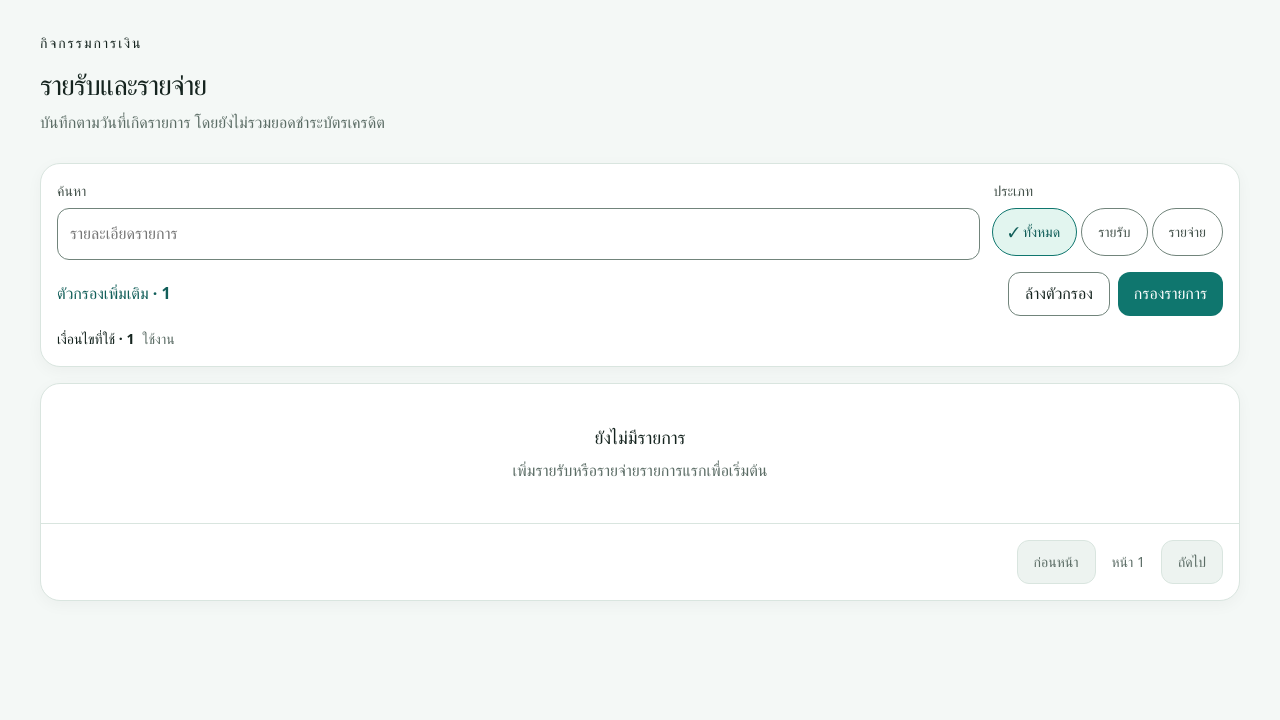
Scenario: finance pages › applies combined transaction filters and clears them
The image size is (1280, 720).
Check: the heading "ยังไม่มีรายการ" is shown, box [594,425,686,449]
Check: the radio button labelled "ทั้งหมด" is checked, box [992,208,1077,256]
Type "กลางวัน" into the search field labelled "ค้นหา" at coordinates (518, 234), box [57,208,980,260]
Click the radio button labelled "รายจ่าย" at coordinates (1187, 232), box [1152,208,1223,256]
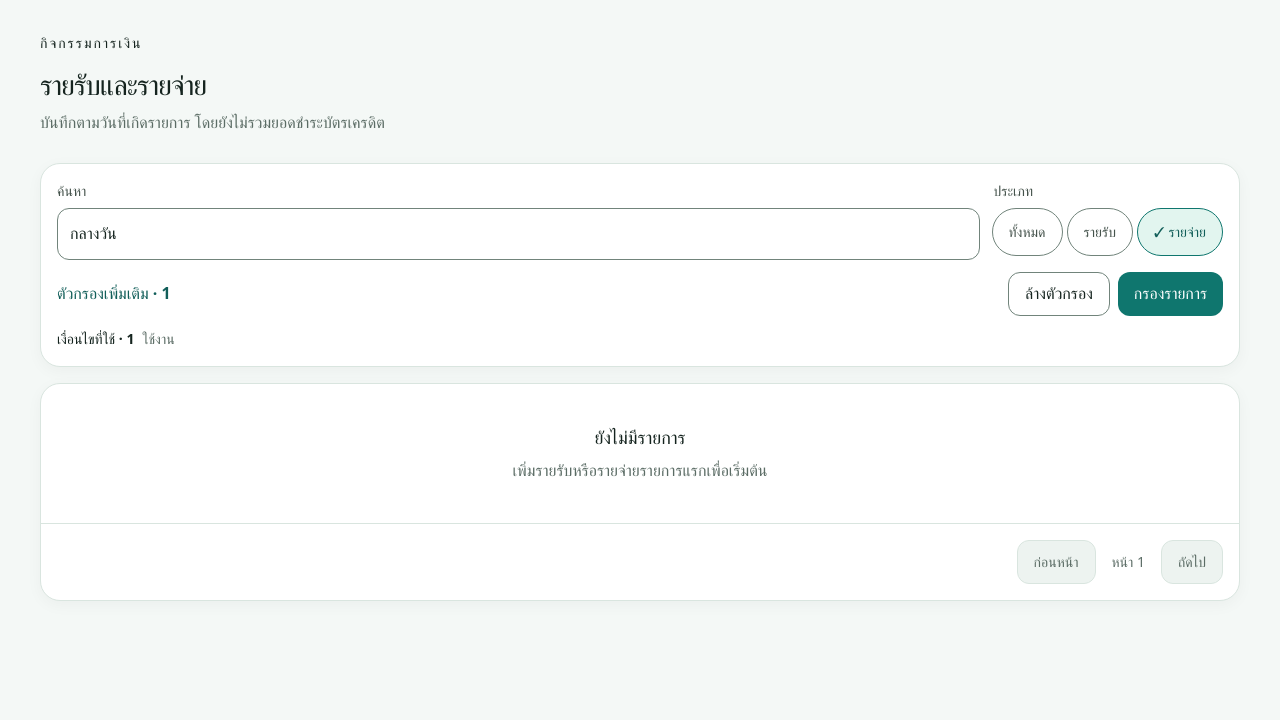
Click the heading "ตัวกรองเพิ่มเติม · 1" at coordinates (114, 293), box [57,282,171,304]
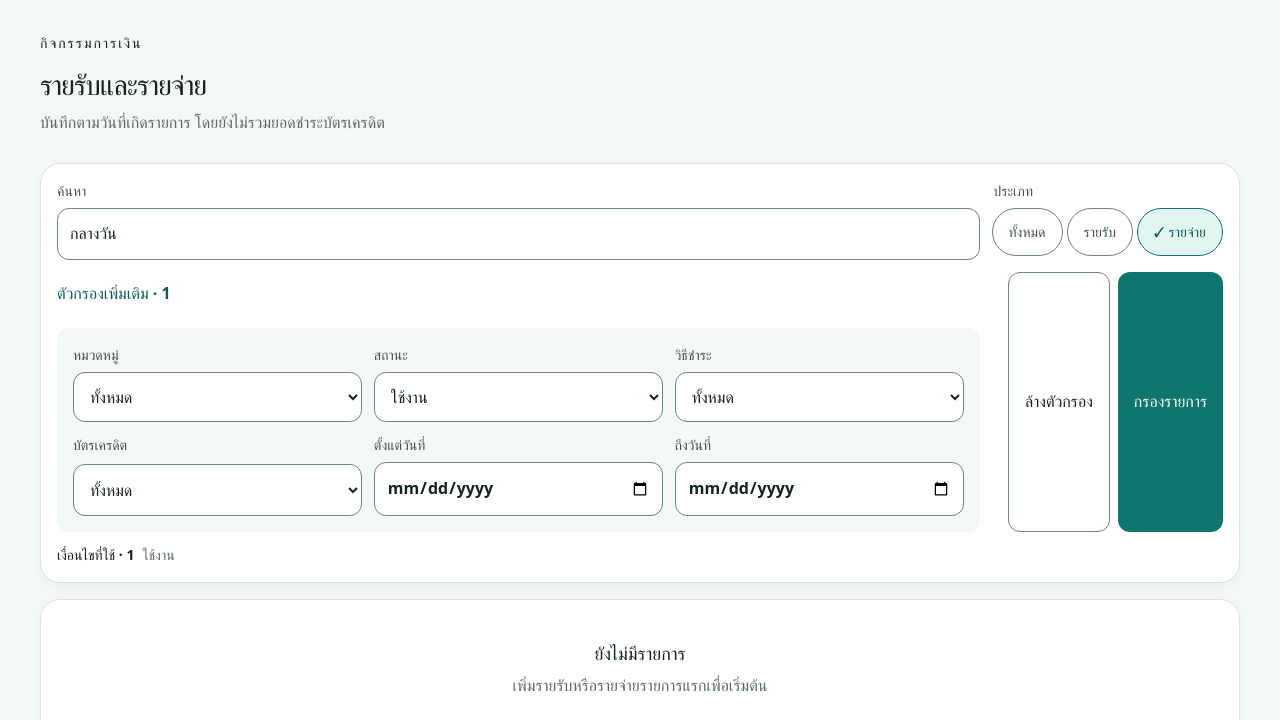
Select "อาหารสมมติ" in the dropdown labelled "หมวดหมู่" at coordinates (217, 397), box [73,372,362,422]
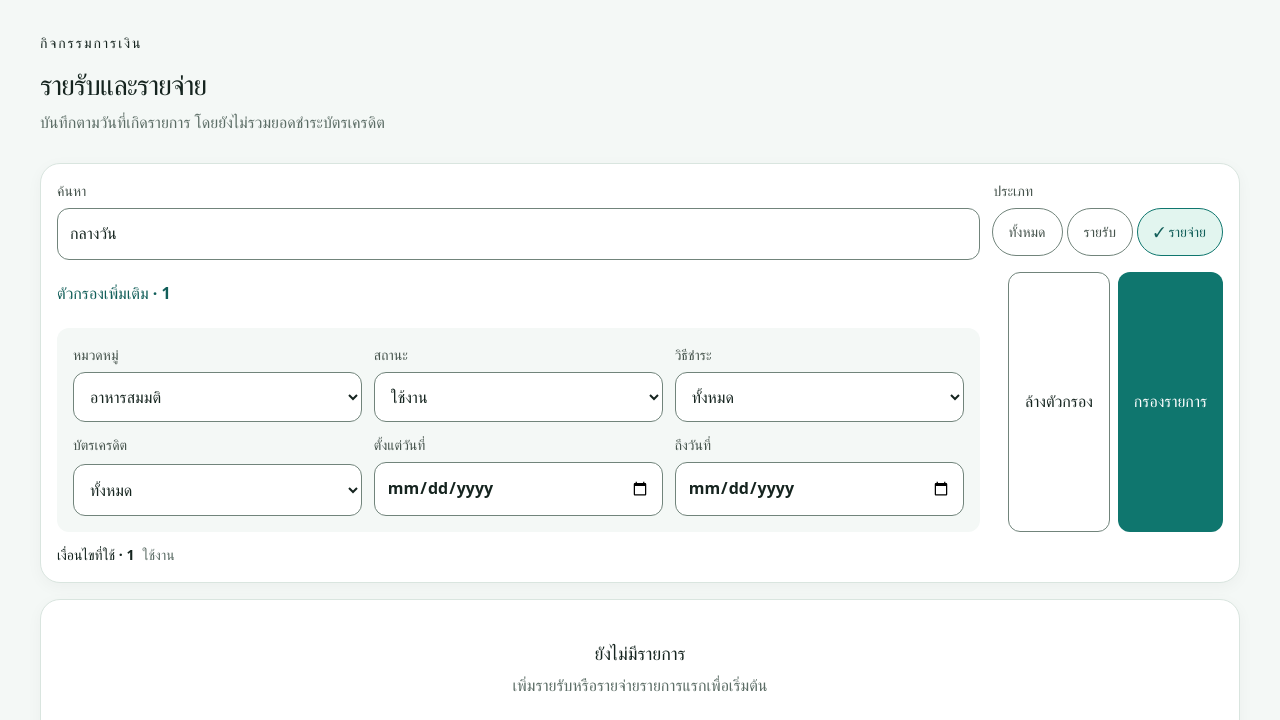
Select "เงินสด" in the dropdown labelled "วิธีชำระ" at coordinates (819, 397), box [675,372,964,422]
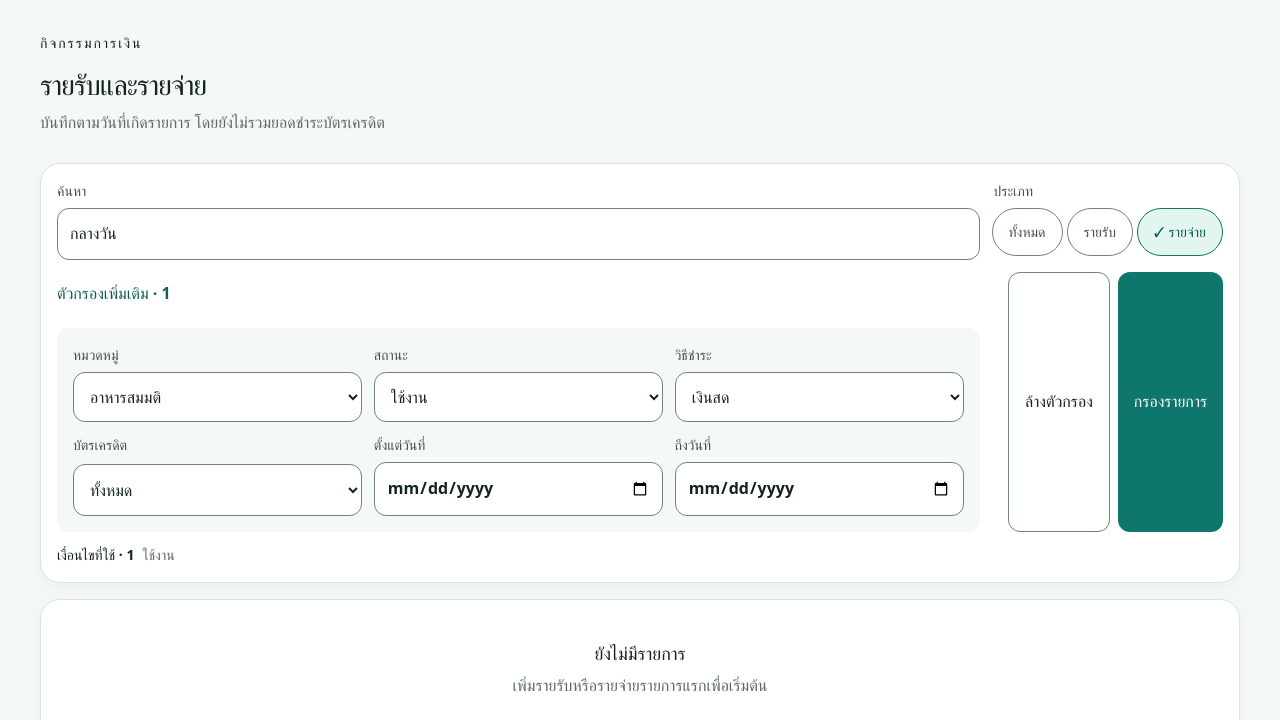
Click the button "กรองรายการ" at coordinates (1170, 402), box [1118,272,1223,532]
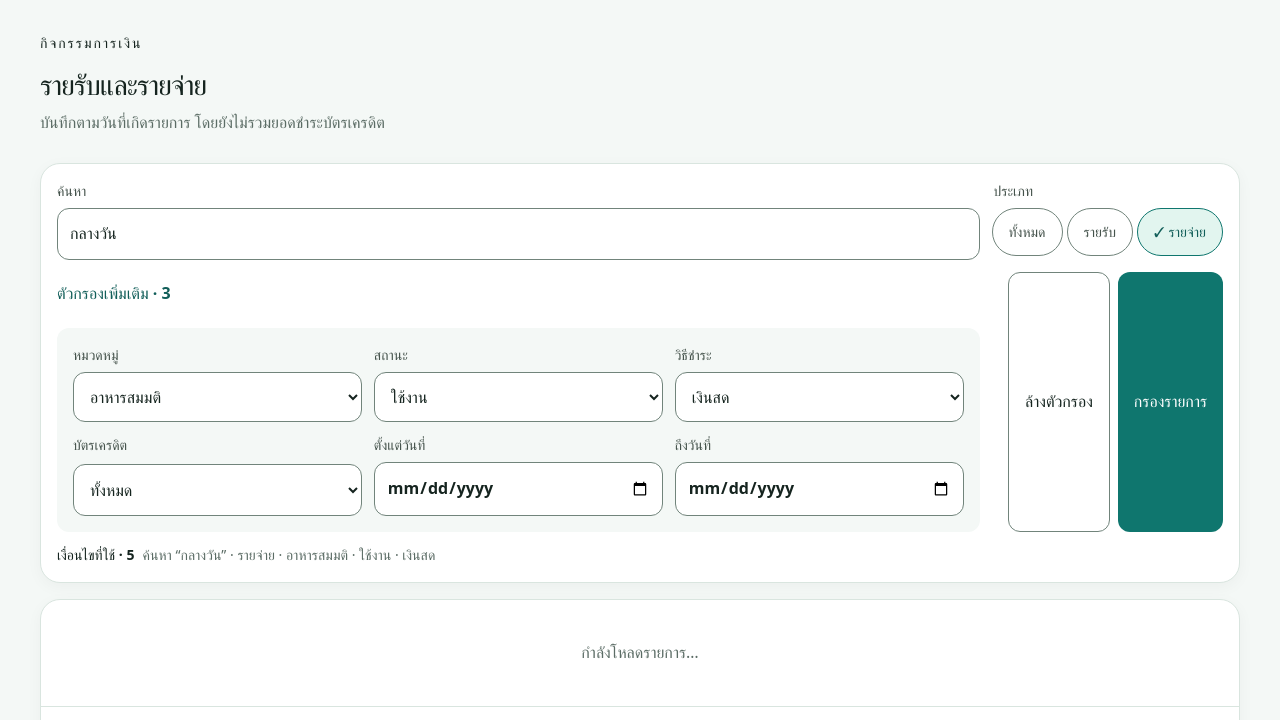
Check: the text "เงื่อนไขที่ใช้ · 5" is shown, box [57,544,134,566]
Check: the text "ค้นหา “กลางวัน” · รายจ่าย · อาหารสมมติ · ใช้งาน · เงินสด" is shown, box [142,544,435,566]
Click the button "ล้างตัวกรอง" at coordinates (1059, 402), box [1008,272,1110,532]
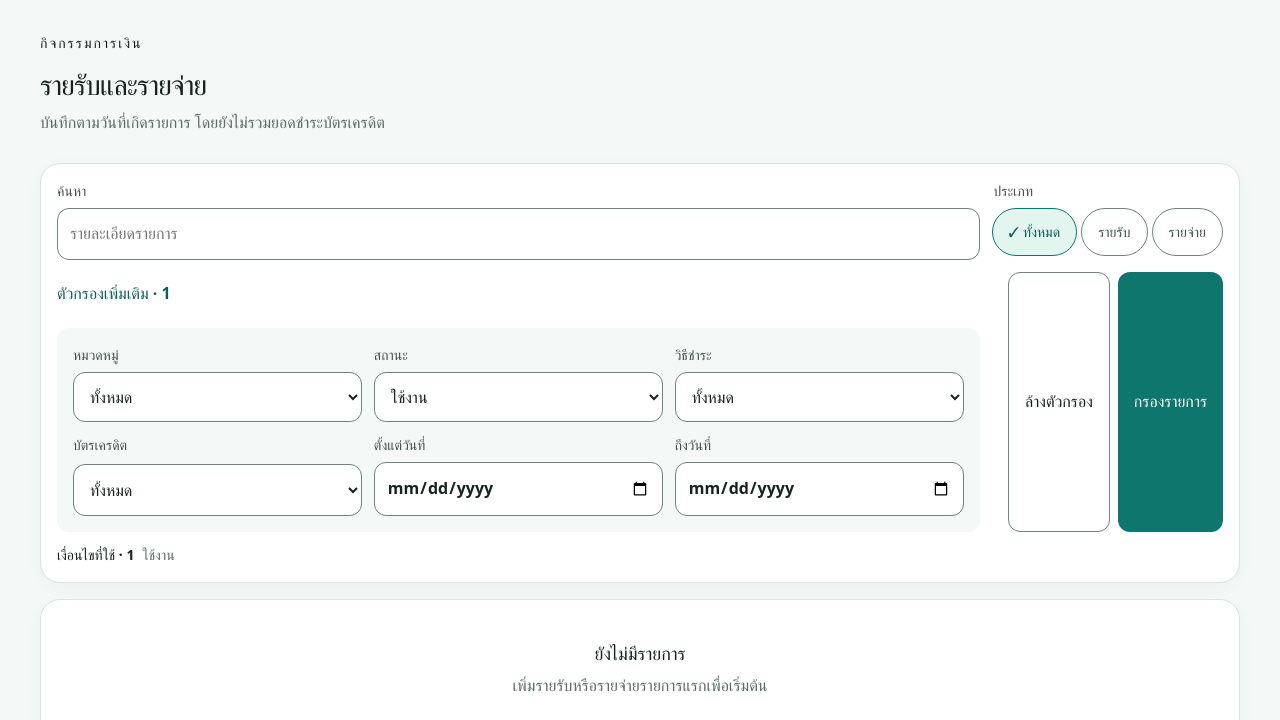
Check: the radio button labelled "ทั้งหมด" is checked, box [992,208,1077,256]
Check: the search field labelled "ค้นหา" is empty, box [57,208,980,260]
Check: the text "เงื่อนไขที่ใช้ · 1" is shown, box [57,544,134,566]
